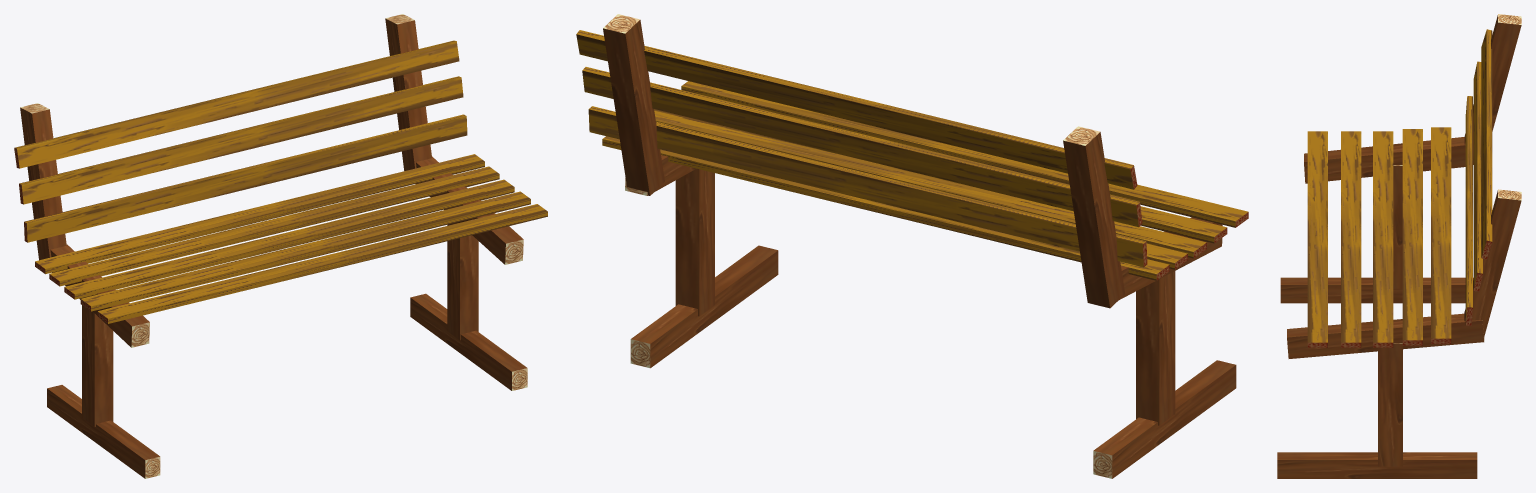
The model's file is bench2.FBX.
The picture shows the model from 3 angles, left to right: view 1: azimuth 30°, elevation 25°; view 2: azimuth 150°, elevation 25°; view 3: azimuth 270°, elevation 25°; orthographic projection. The views are drawn at different scales.
Parts seen in each view (by area): view 1: Box012; view 2: Box012; view 3: Box012.
Boxes of the visible parts, left/top/right/bottom form: Box012: left=14, top=14, right=547, bottom=478; Box012: left=576, top=14, right=1248, bottom=478; Box012: left=1277, top=14, right=1521, bottom=478.
Size of the model in its own units: 50.62 by 31.36 by 24.73.
